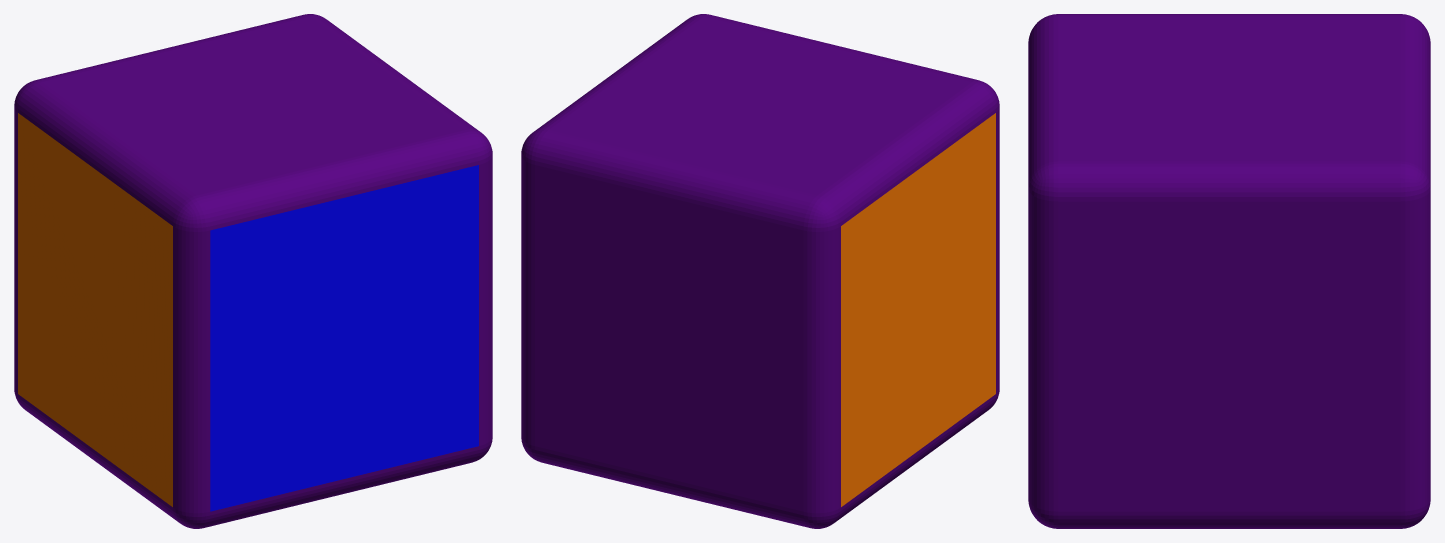
3 renders of one model, left to right at view 1: azimuth 30°, elevation 25°; view 2: azimuth 150°, elevation 25°; view 3: azimuth 270°, elevation 25°, orthographic. The views are drawn at different scales.
Parts seen in each view (by area): view 1: Cube.007; view 2: Cube.007; view 3: Cube.007.
Part boxes in pixels (x1=…): Cube.007: x1=14, y1=14, x2=492, y2=528; Cube.007: x1=521, y1=14, x2=999, y2=528; Cube.007: x1=1028, y1=14, x2=1430, y2=528.
Bounding box in the file's own units: 200 × 200 × 200.
